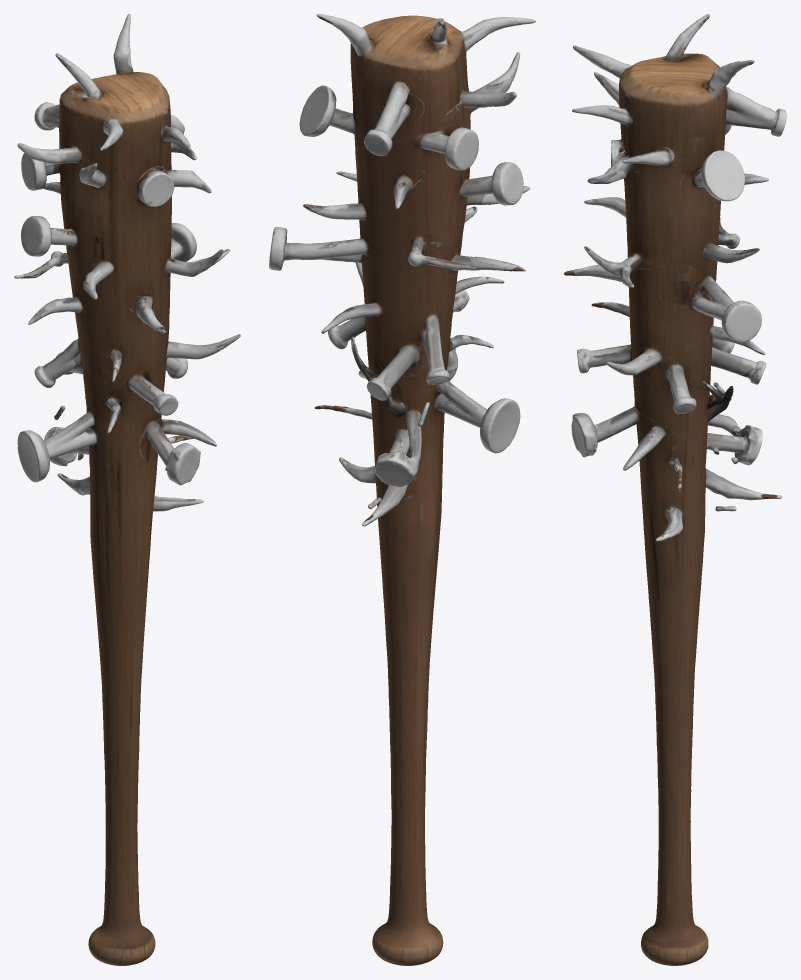
File: Meshy_AI_Nail_Bat_0104192416_texture_1767555084784.glb
3 views of the same model, side by side, from view 1: azimuth 30°, elevation 25°; view 2: azimuth 150°, elevation 25°; view 3: azimuth 270°, elevation 25° (orthographic). The views are drawn at different scales.
Bounding box in the file's own units: 0.4479 × 1.9 × 0.4175.
Materials: 1 (1 with a texture image).
